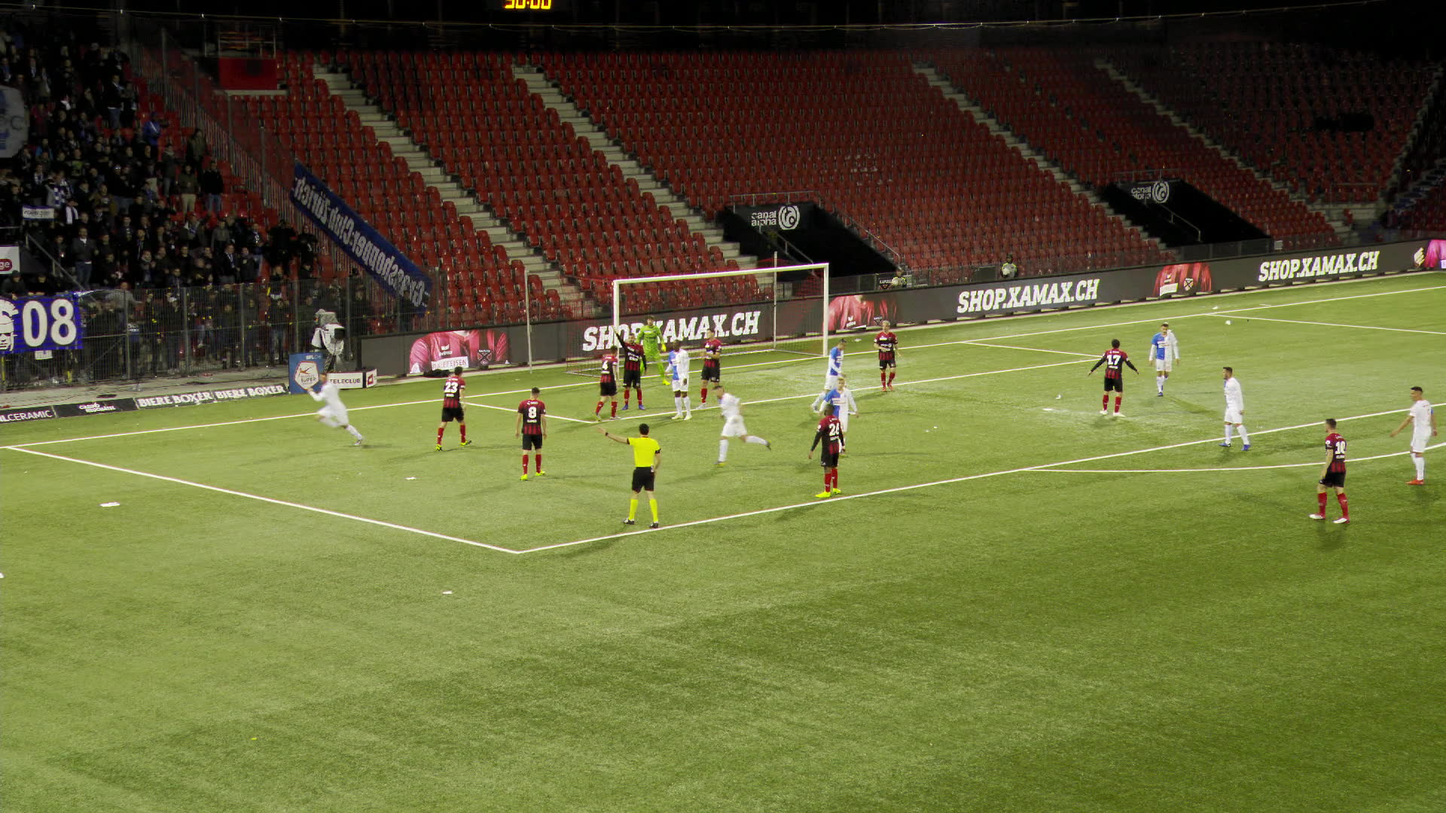player: (316, 368, 381, 443), (1394, 385, 1441, 485), (1313, 417, 1352, 524), (715, 388, 767, 467), (1094, 338, 1139, 416), (810, 402, 844, 498), (516, 386, 549, 480), (821, 377, 858, 457), (435, 365, 467, 451), (1218, 365, 1249, 449), (695, 327, 725, 410), (624, 326, 653, 408), (641, 315, 674, 385), (664, 337, 692, 419), (1150, 321, 1179, 396), (595, 345, 624, 420), (874, 320, 899, 391), (822, 337, 844, 399)
referee: (596, 421, 663, 527)
